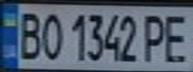1: (63, 9, 87, 62)
2: (118, 10, 142, 63)
3: (84, 10, 106, 61)
4: (103, 10, 124, 62)
B: (12, 8, 45, 61)
E: (160, 10, 193, 64)
O: (36, 9, 66, 61)
P: (139, 10, 172, 63)
